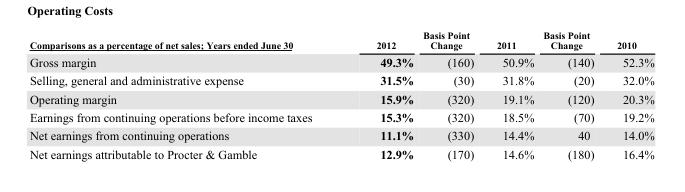table: (28, 29, 653, 160)
table column: (28, 29, 343, 160), (343, 29, 417, 160), (417, 29, 484, 160), (537, 29, 604, 160), (484, 29, 537, 160), (604, 29, 653, 160)
table column header: (28, 29, 653, 52)
table row: (28, 29, 653, 52), (28, 70, 653, 89), (28, 107, 653, 126), (28, 52, 653, 70), (28, 89, 653, 107), (28, 126, 653, 144), (28, 144, 653, 160)
